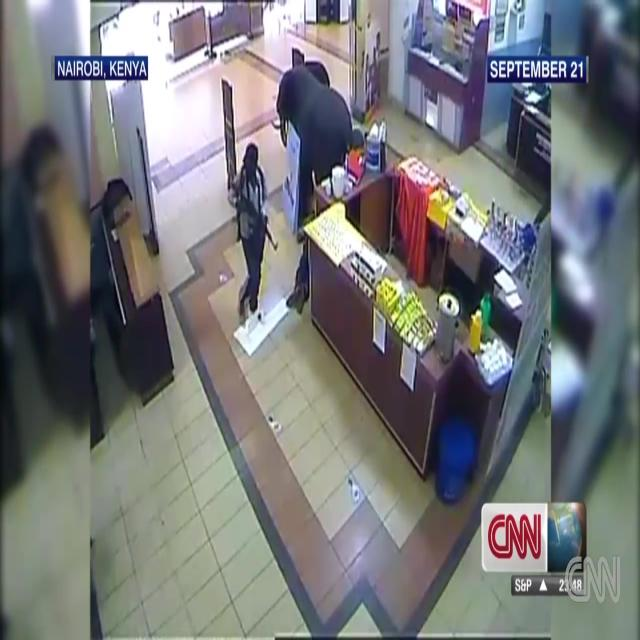Weapon: (227, 180, 287, 272)
